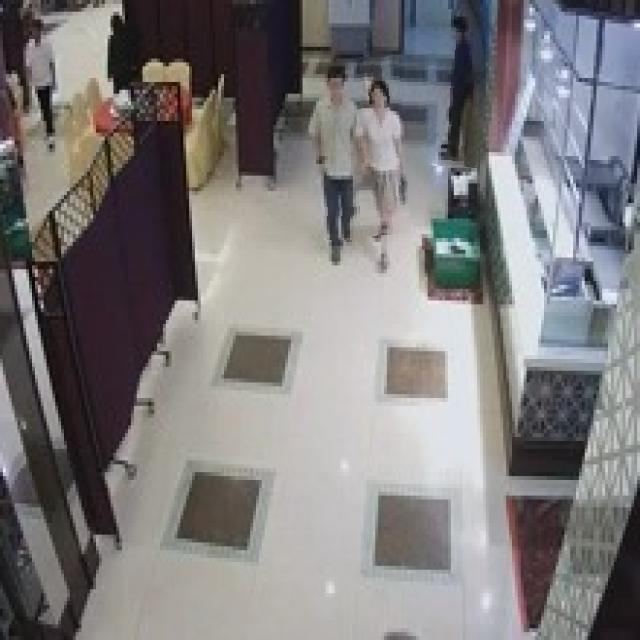normal: (424, 8, 485, 167), (310, 58, 362, 240), (356, 57, 408, 236)
